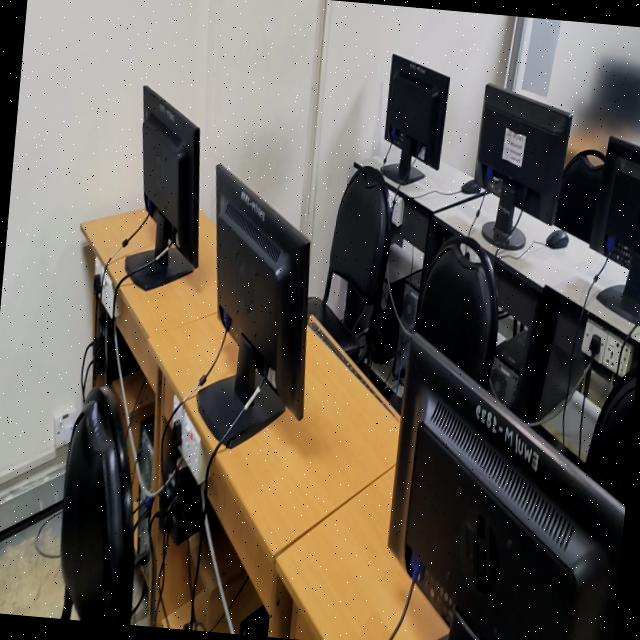Chair: (61, 387, 135, 625), (310, 166, 390, 358), (414, 234, 498, 388), (583, 371, 637, 505), (554, 152, 600, 242)
Cpu: (392, 271, 421, 396), (135, 417, 154, 577), (490, 329, 527, 406)
Monitor: (388, 333, 625, 640), (197, 164, 310, 446), (474, 84, 572, 250), (125, 85, 200, 290), (589, 136, 640, 325), (383, 54, 449, 184)
Mouse: (546, 228, 568, 248), (461, 179, 481, 194)
